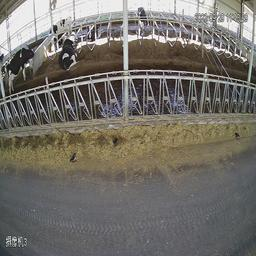cow: (7, 47, 37, 95), (57, 32, 78, 69), (48, 13, 72, 35), (135, 5, 152, 35), (84, 21, 101, 40)
